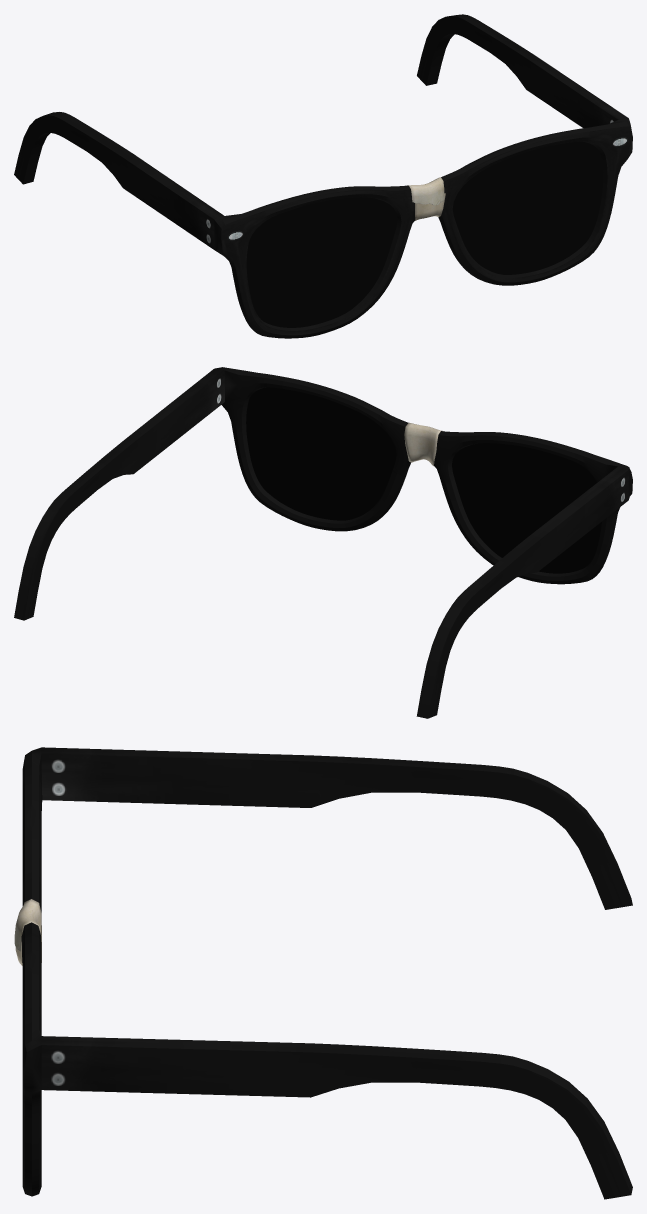
Rendered from glasses.fbx.
3 renders of one model, top to bottom at view 1: azimuth 30°, elevation 25°; view 2: azimuth 150°, elevation 25°; view 3: azimuth 270°, elevation 25°, orthographic. The views are drawn at different scales.
Parts seen in each view (by area): view 1: Glasses.002, Glasses, Glasses.001; view 2: Glasses, Glasses.002, Glasses.001; view 3: Glasses, Glasses.001.
Part boxes in pixels (bbox=[...]): Glasses.002: bbox=[246, 141, 603, 327]; Glasses: bbox=[14, 14, 632, 338]; Glasses.001: bbox=[407, 177, 445, 220]; Glasses: bbox=[14, 367, 632, 718]; Glasses.002: bbox=[246, 387, 601, 573]; Glasses.001: bbox=[404, 422, 443, 466]; Glasses: bbox=[21, 747, 632, 1199]; Glasses.001: bbox=[14, 899, 41, 965].
Bounding box in the file's own units: 155 × 50.73 × 136.
